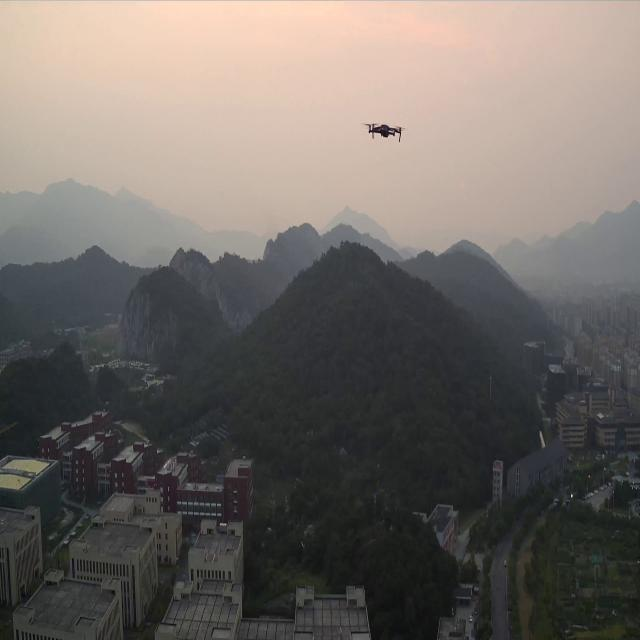UAV: (365, 120, 404, 142)
